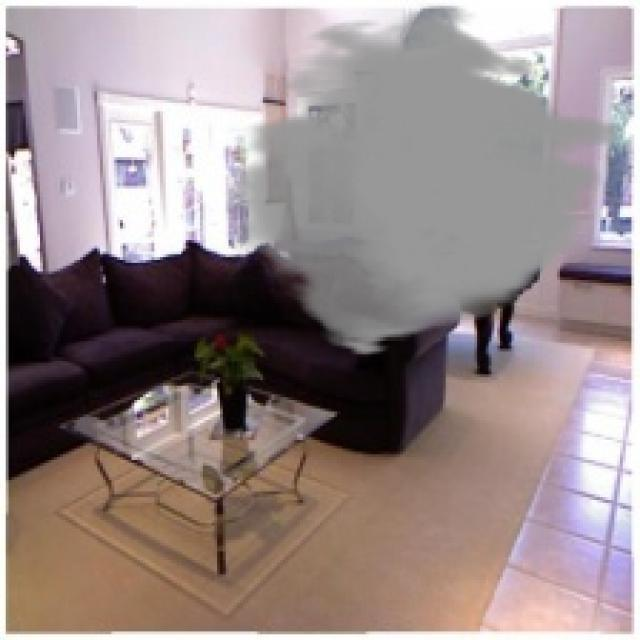Smoke: (226, 2, 614, 358)
